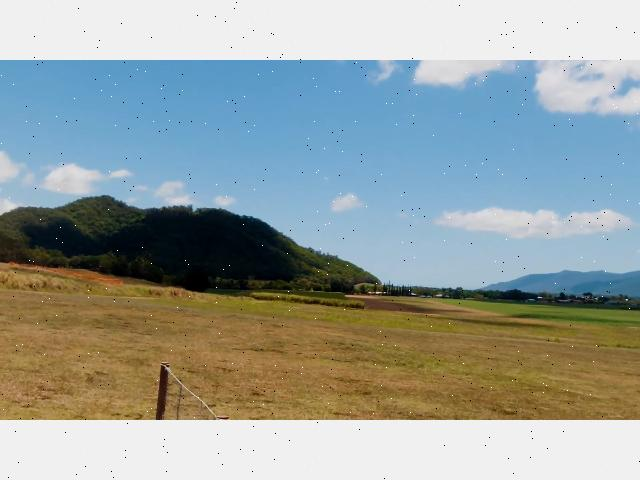Anti-Drone: (319, 168, 335, 186)
